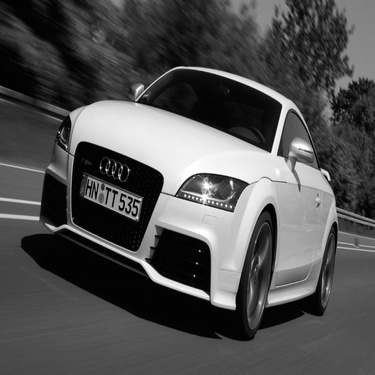car: (35, 59, 345, 340)
